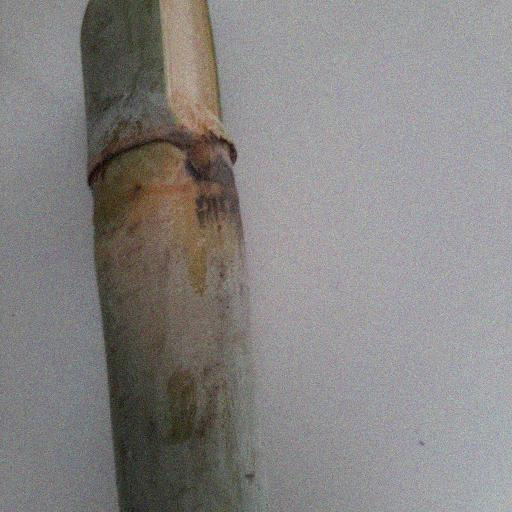Bud: (186, 140, 218, 178)
